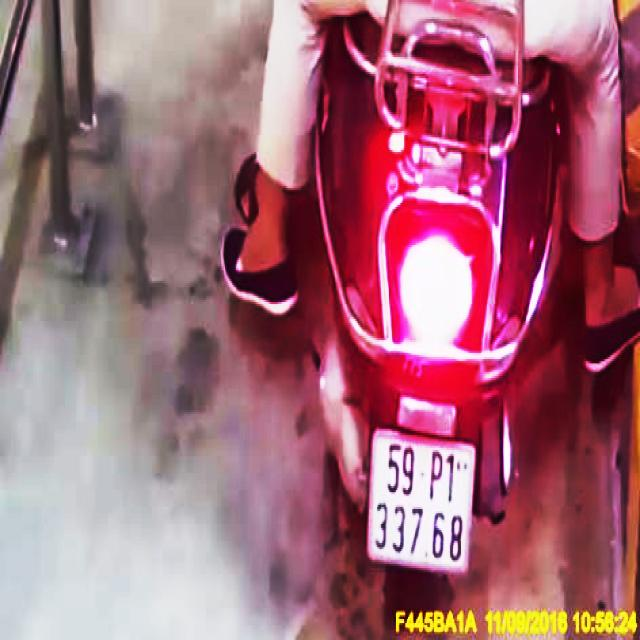license_plate: (369, 436, 478, 574)
